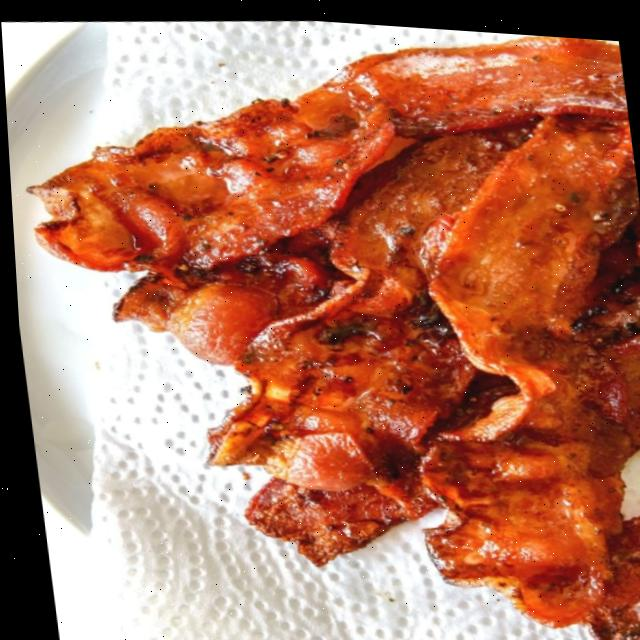Bacon: (29, 28, 640, 628), (29, 28, 626, 270), (423, 107, 637, 394)
